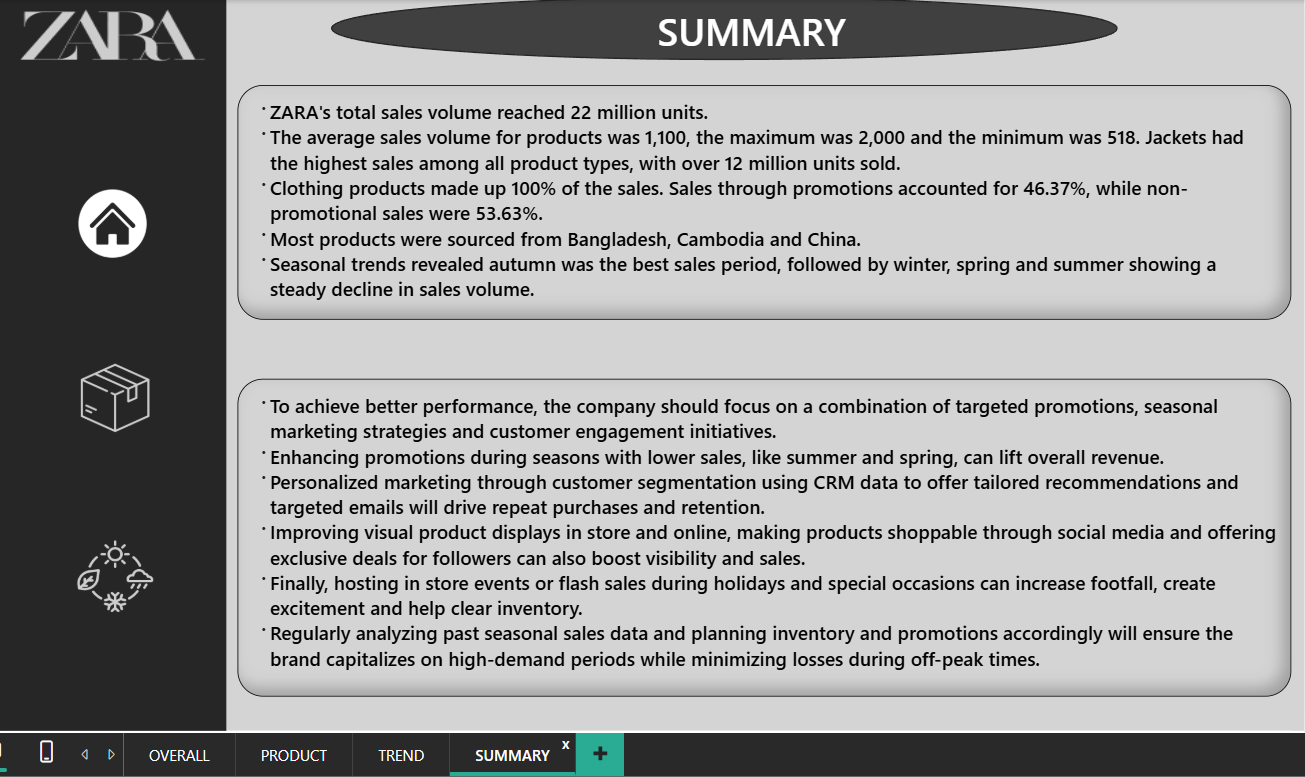

What the dashboard file says about the page in this screenshot:
{"tool":"powerbi","page":{"name":"SUMMARY","canvas":[1280,720],"ordinal":3},"visuals":[{"type":"textbox","box":[640.5,0,208.6,66.3],"z":0},{"type":"actionButton","box":[50.3,170.6,171.8,89.6],"z":4000},{"type":"actionButton","box":[50.3,347.2,171.8,89.6],"z":5000},{"type":"textbox","box":[233.1,83.4,1034.4,230.7],"z":5001},{"type":"textbox","box":[233.1,371.8,1034.4,311.7],"z":5002}]}

Visuals, with their boxes on the page's 1280x720 design canvas (x1, y1, x2, y2). These are canvas units, not pixel positions in the 1305x777 screenshot, which may show the page scaled, cropped or inside an application window:
textbox: 640:0:849:66
actionButton: 50:171:222:260
actionButton: 50:347:222:437
textbox: 233:83:1268:314
textbox: 233:372:1268:684
